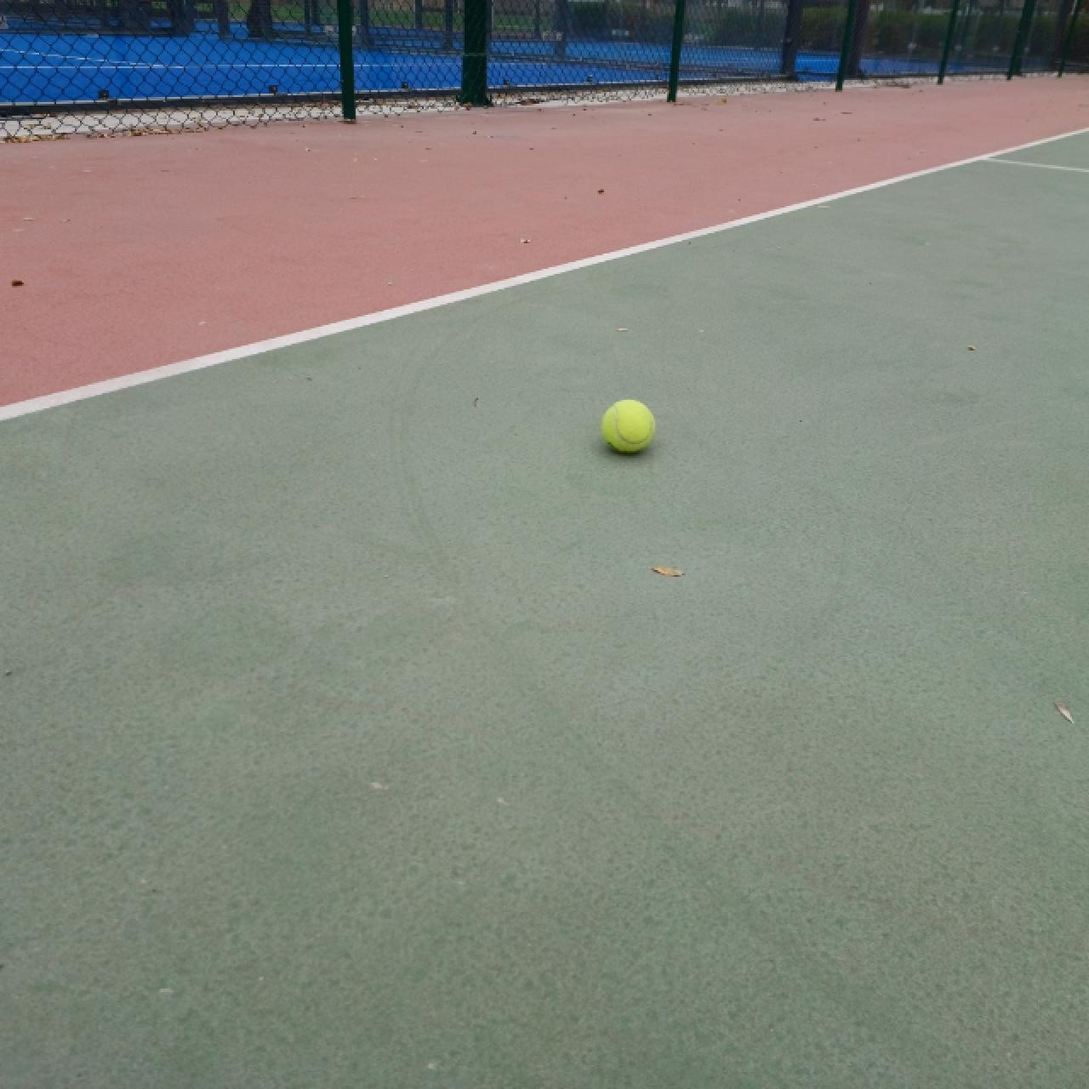tennis-ball: (599, 396, 656, 456)
